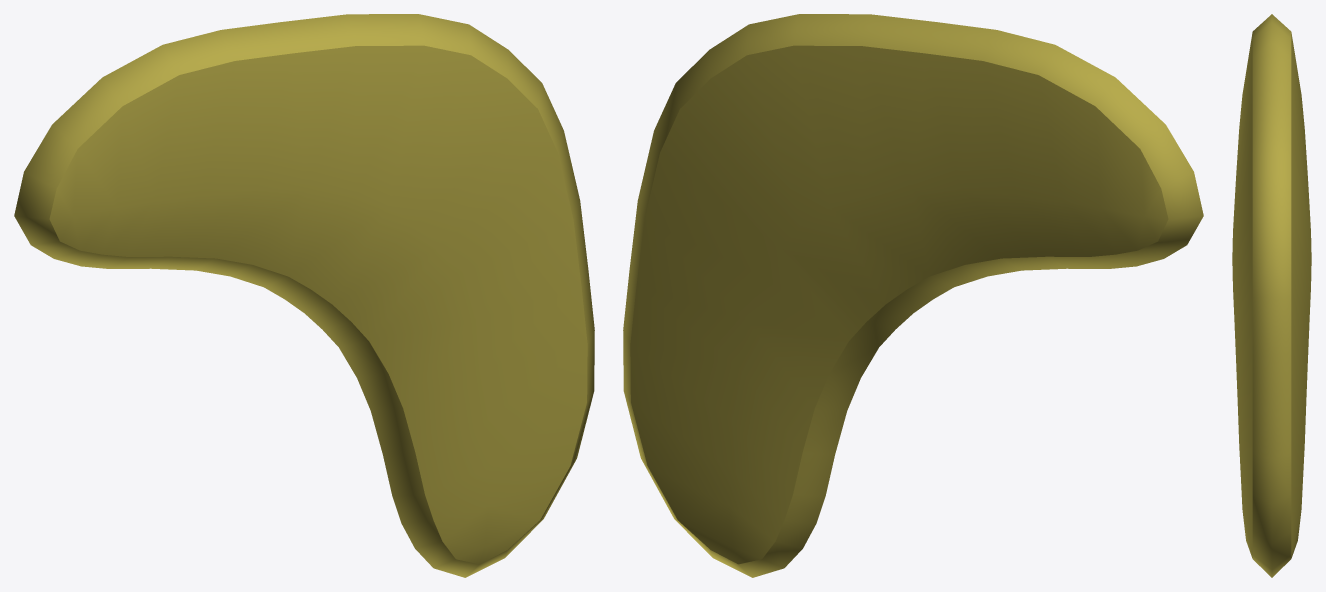
The model's file is Disc.glb.
3 renders of one model, left to right at view 1: azimuth 30°, elevation 25°; view 2: azimuth 150°, elevation 25°; view 3: azimuth 270°, elevation 25°, orthographic. The views are drawn at different scales.
Visible parts, largest first — view 1: Boomerang__3268; view 2: Boomerang__3268; view 3: Boomerang__3268.
Boxes of the visible parts, x1,y1,x2,y2 form: Boomerang__3268: (14,14,594,577); Boomerang__3268: (623,14,1203,577); Boomerang__3268: (1232,14,1311,577).
Bounding box in the file's own units: 1.24 × 1.24 × 0.2021.
